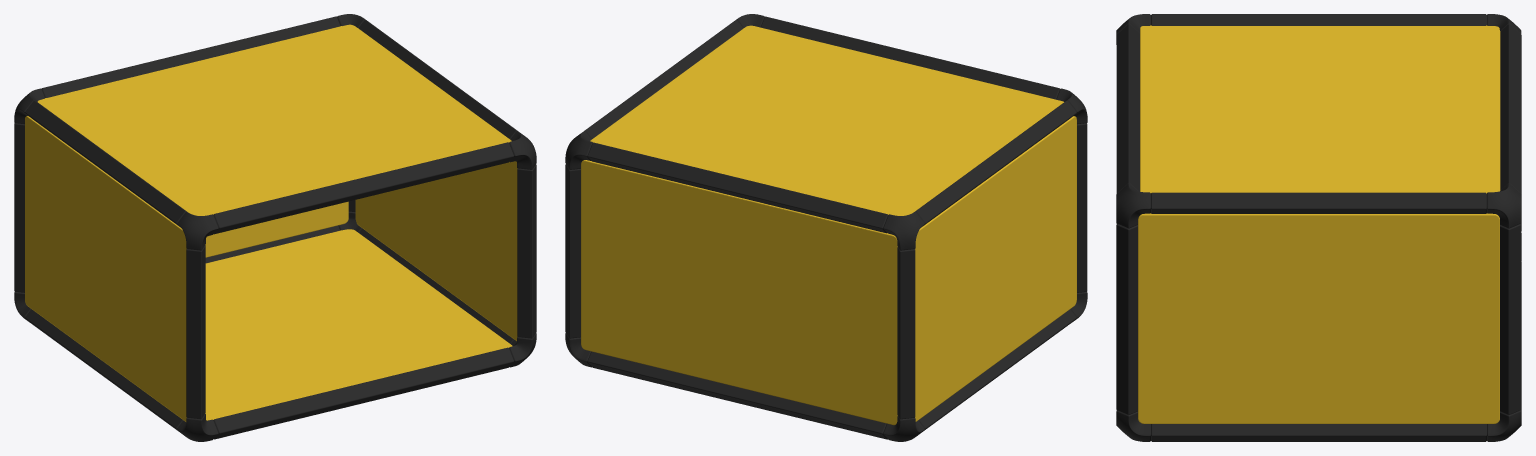
The picture shows the model from 3 angles, left to right: view 1: azimuth 30°, elevation 25°; view 2: azimuth 150°, elevation 25°; view 3: azimuth 270°, elevation 25°; orthographic projection. The views are drawn at different scales.
Visible parts, largest first — view 1: 420x374x229; view 2: 420x374x229; view 3: 420x374x229.
Boxes of the visible parts, x1,y1,x2,y2 form: 420x374x229: (14,14,536,441); 420x374x229: (565,14,1087,441); 420x374x229: (1116,14,1521,441).
Size of the model in its own units: 0.4977 by 0.3066 by 0.4513.
